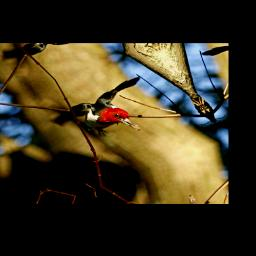Woodpecker: (41, 70, 178, 155)
